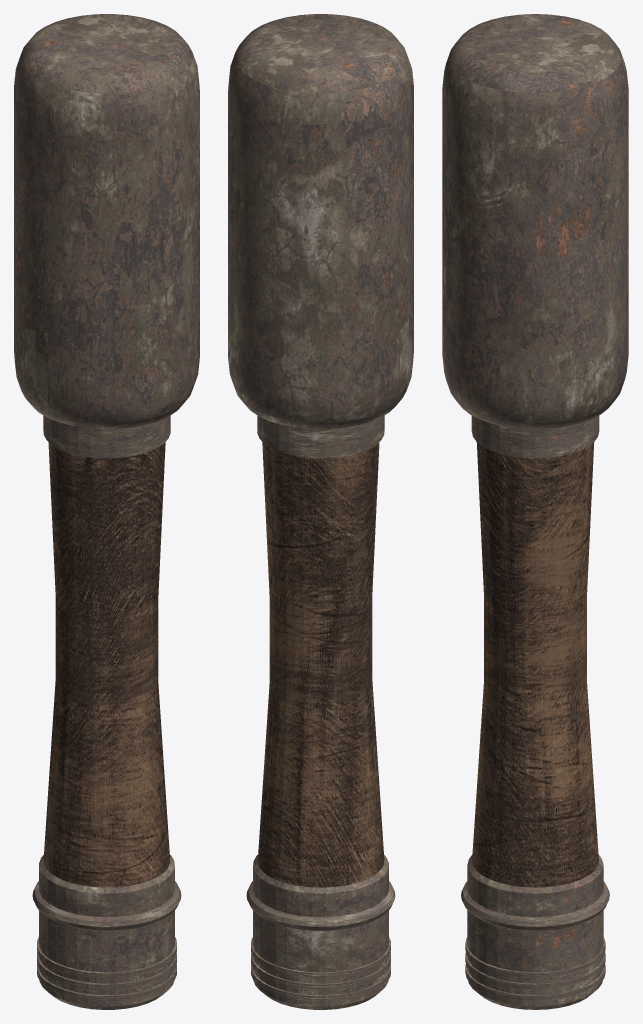
File: grenade.obj
3 renders of one model, left to right at view 1: azimuth 30°, elevation 25°; view 2: azimuth 150°, elevation 25°; view 3: azimuth 270°, elevation 25°, orthographic.
Parts seen in each view (by area): view 1: Cylinder.002_Cylinder.007, Cylinder, Cylinder.001, Cylinder.003, Torus, Cylinder.006, Cylinder.005, Cylinder.004; view 2: Cylinder.002_Cylinder.007, Cylinder, Cylinder.001, Cylinder.003, Torus, Cylinder.006, Cylinder.005, Cylinder.004; view 3: Cylinder.002_Cylinder.007, Cylinder, Cylinder.001, Cylinder.003, Torus, Cylinder.006, Cylinder.005, Cylinder.004.
Boxes of the visible parts, bbox=[...] form: Cylinder.002_Cylinder.007: bbox=[14, 14, 199, 429]; Cylinder: bbox=[43, 442, 170, 887]; Cylinder.001: bbox=[39, 855, 174, 1009]; Cylinder.003: bbox=[43, 415, 170, 458]; Torus: bbox=[32, 881, 181, 930]; Cylinder.006: bbox=[37, 952, 176, 990]; Cylinder.005: bbox=[37, 964, 176, 1001]; Cylinder.004: bbox=[37, 937, 176, 978]; Cylinder.002_Cylinder.007: bbox=[228, 14, 413, 429]; Cylinder: bbox=[257, 442, 384, 887]; Cylinder.001: bbox=[253, 855, 388, 1009]; Cylinder.003: bbox=[257, 415, 384, 458]; Torus: bbox=[246, 881, 395, 930]; Cylinder.006: bbox=[251, 952, 390, 990]; Cylinder.005: bbox=[251, 964, 390, 1001]; Cylinder.004: bbox=[251, 937, 390, 978]; Cylinder.002_Cylinder.007: bbox=[442, 14, 628, 429]; Cylinder: bbox=[472, 442, 598, 887]; Cylinder.001: bbox=[467, 855, 603, 1009]; Cylinder.003: bbox=[471, 415, 599, 458]; Torus: bbox=[461, 881, 609, 930]; Cylinder.006: bbox=[465, 952, 605, 990]; Cylinder.005: bbox=[465, 964, 605, 1001]; Cylinder.004: bbox=[465, 937, 605, 978].
Size of the model in its own units: 2.92 by 16.28 by 2.92.
